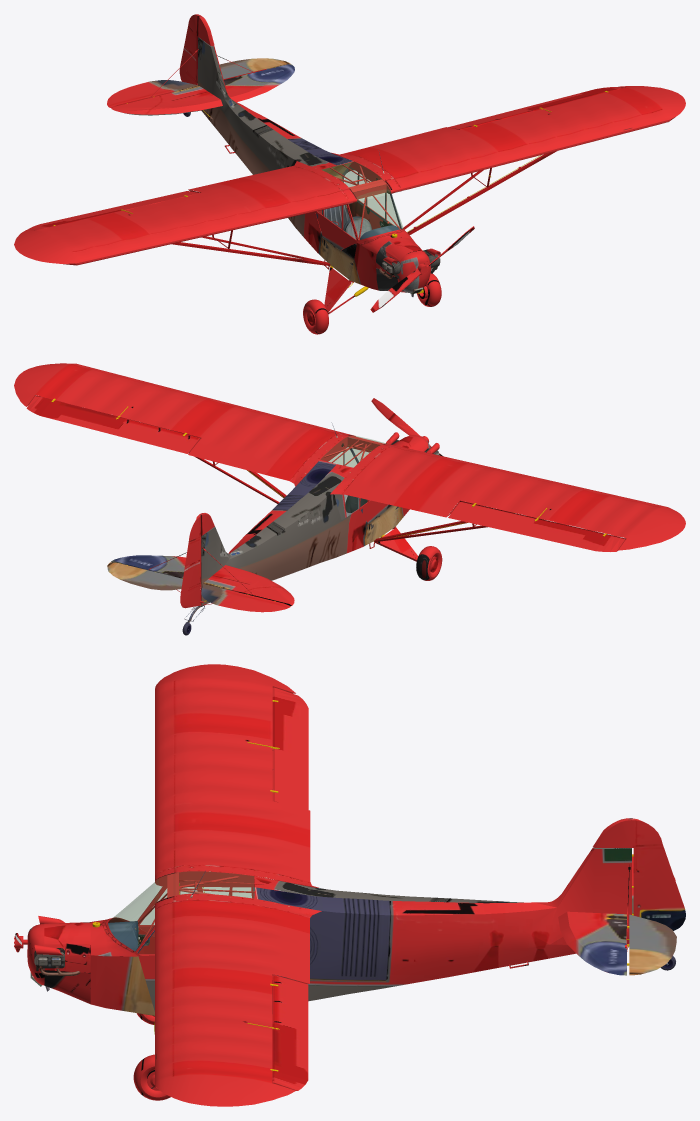
File: red-alum.gltf
The picture shows the model from 3 angles, top to bottom: view 1: azimuth 30°, elevation 25°; view 2: azimuth 150°, elevation 25°; view 3: azimuth 270°, elevation 25°; orthographic projection. The views are drawn at different scales.
Visible parts, largest first — view 1: Exterior, XLive_4, XLive_5, XLive_0, XLive_1; view 2: Exterior, XLive_0, XLive_1, XLive_4, XLive_5; view 3: Exterior, XLive_5, XLive_1, XLive_0, XLive_4.
Boxes of the visible parts, box(x1,y1,x2,y2) form: Exterior: box(14, 37, 685, 334); XLive_4: box(107, 58, 290, 107); XLive_5: box(179, 14, 214, 84); XLive_0: box(448, 87, 624, 129); XLive_1: box(27, 191, 199, 230); Exterior: box(14, 363, 685, 621); XLive_0: box(26, 395, 200, 453); XLive_1: box(448, 502, 625, 551); XLive_4: box(107, 562, 290, 612); XLive_5: box(180, 513, 214, 608); Exterior: box(14, 664, 633, 1106); XLive_5: box(593, 818, 685, 930); XLive_1: box(272, 687, 308, 809); XLive_0: box(272, 975, 308, 1090); XLive_4: box(629, 854, 676, 975).
Size of the model in its own units: 10.65 by 2.73 by 6.86.
Materials: 73 (61 with a texture image).
